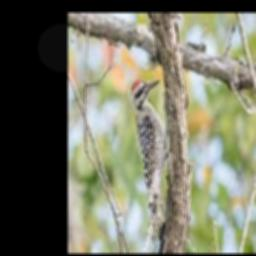Woodpecker: (130, 78, 168, 253)
